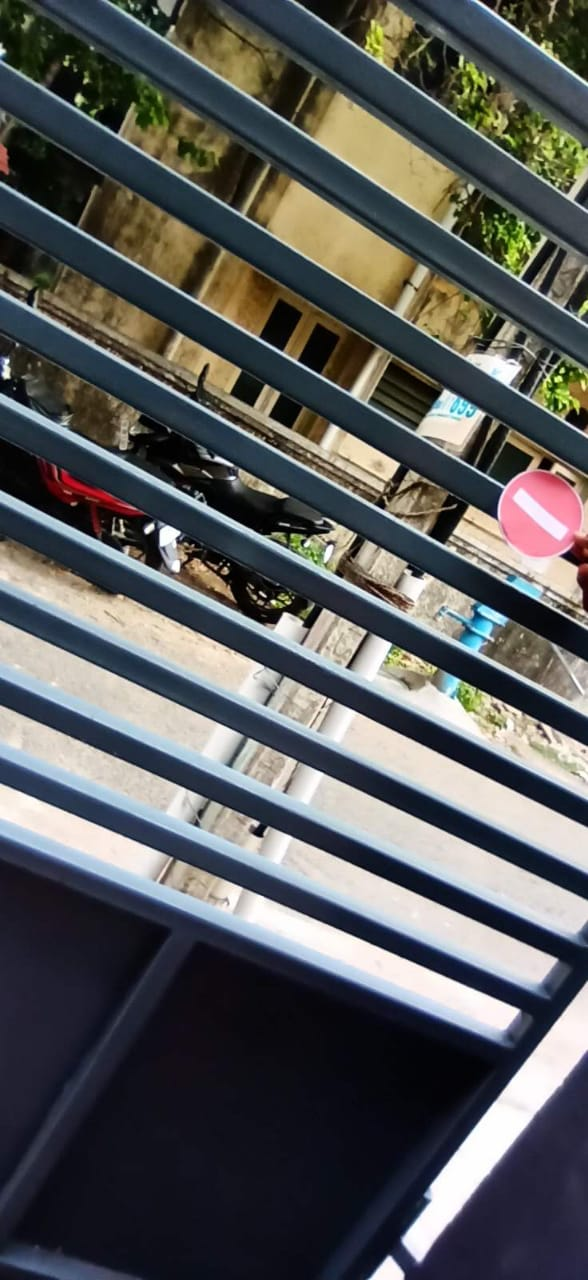NO ENTRY: (490, 453, 588, 557)
